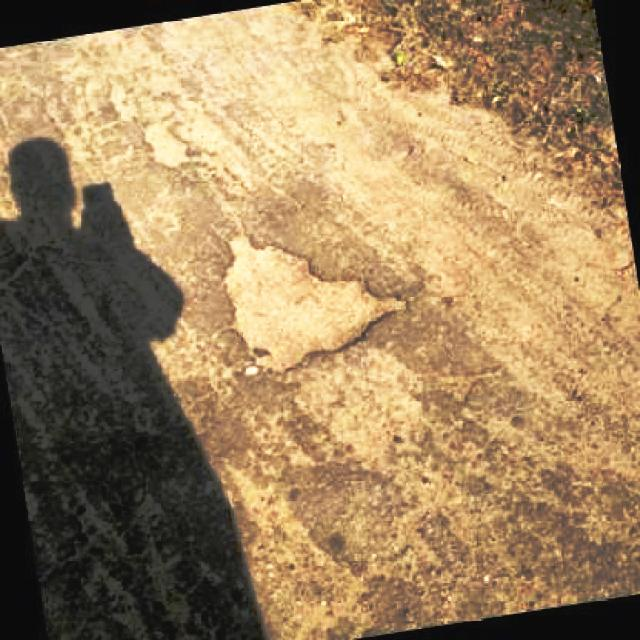pothole: (214, 215, 409, 372), (109, 78, 191, 172)
